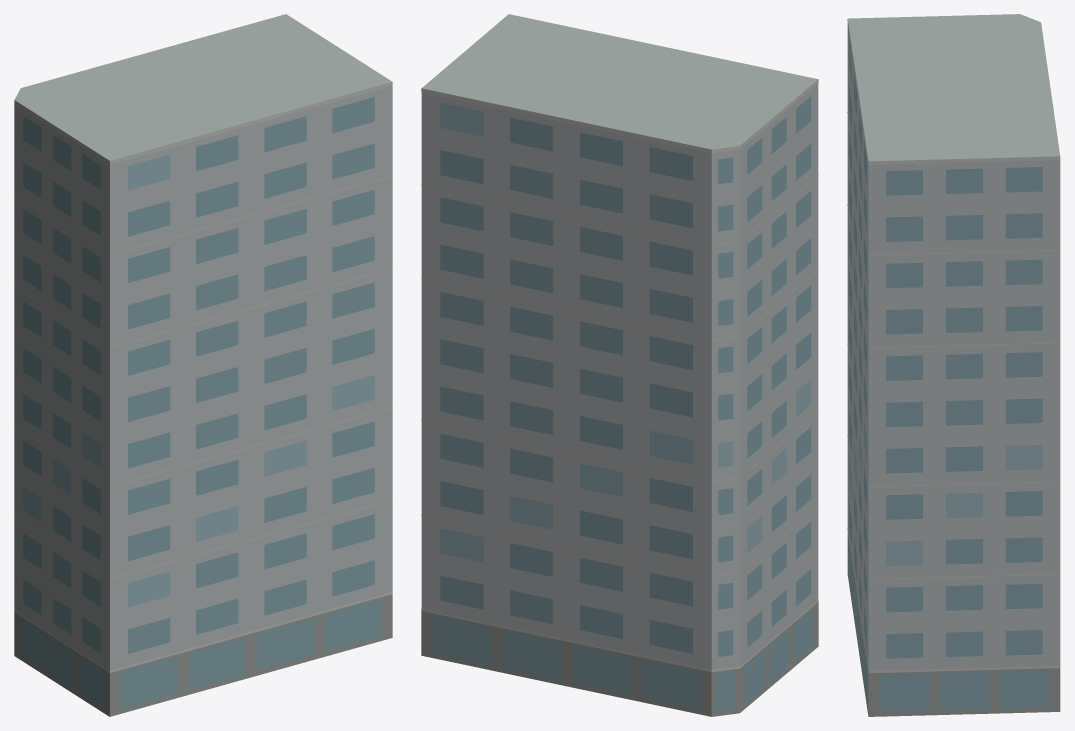
The model's file is survey-upis-32930689.glb.
3 views of the same model, side by side, from view 1: azimuth 30°, elevation 25°; view 2: azimuth 150°, elevation 25°; view 3: azimuth 270°, elevation 25° (orthographic). The views are drawn at different scales.
Visible parts, largest first — view 1: survey-upis-32930689.tmp; view 2: survey-upis-32930689.tmp; view 3: survey-upis-32930689.tmp.
Boxes of the visible parts, x1,y1,x2,y2 form: survey-upis-32930689.tmp: (14,14,392,716); survey-upis-32930689.tmp: (421,14,818,716); survey-upis-32930689.tmp: (847,14,1060,716).
Bounding box in the file's own units: 19.94 × 35 × 12.17.
